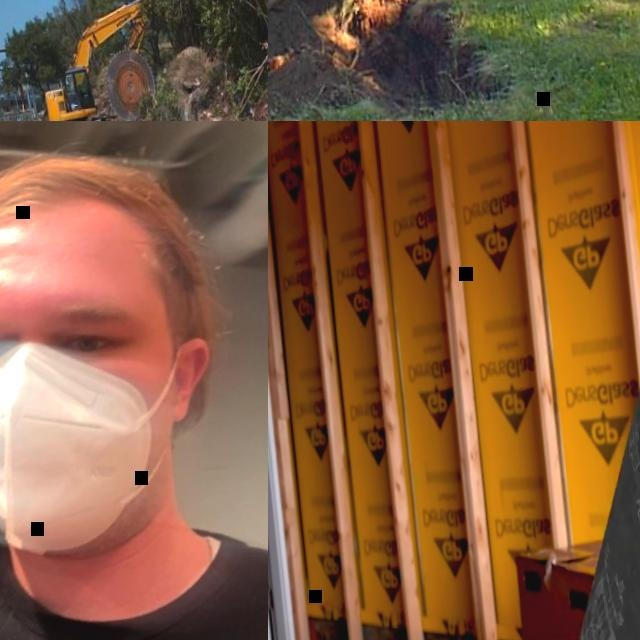NO-Hardhat: (0, 139, 197, 287)
NO-Mask: (0, 333, 207, 565)
NO-Safety Vest: (0, 503, 268, 640)
Person: (0, 121, 268, 640)
machinery: (32, 0, 166, 121)
